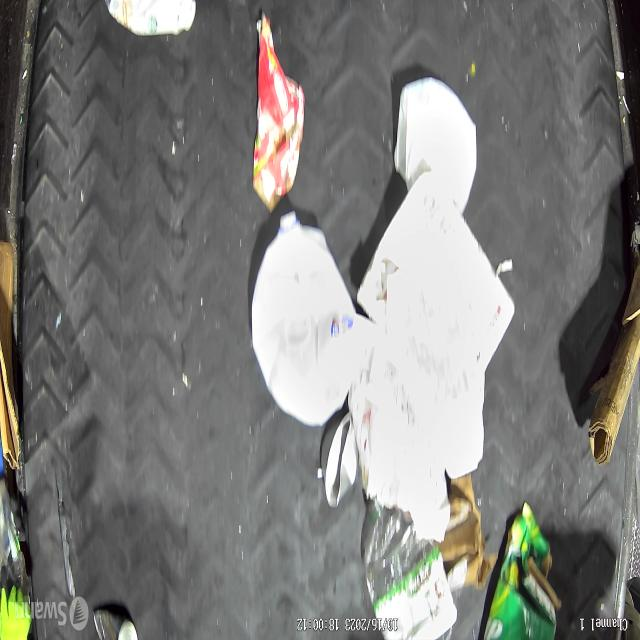can: (320, 410, 360, 508), (94, 607, 138, 640)
milk_jug: (251, 209, 377, 424), (392, 77, 477, 216)
plastic_bottle: (365, 498, 457, 640)
